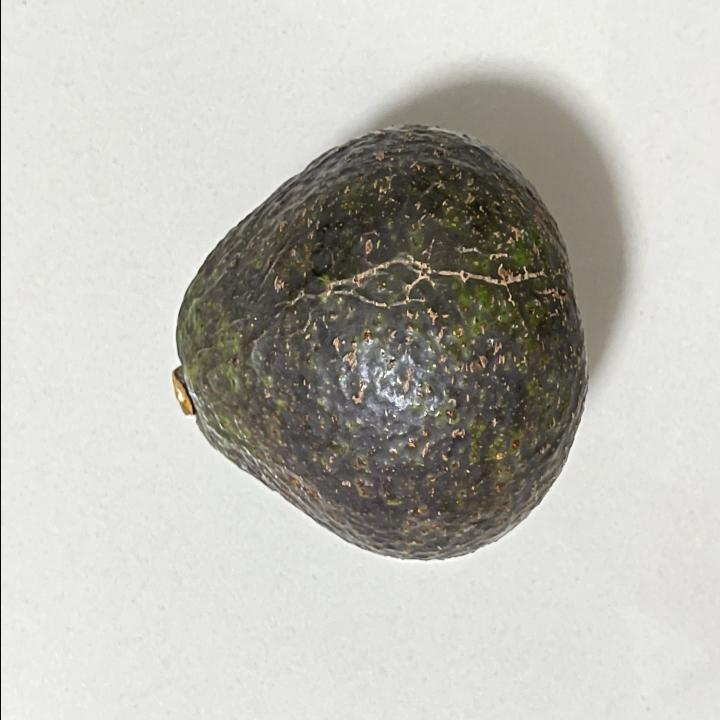Level1: (153, 107, 599, 594)
